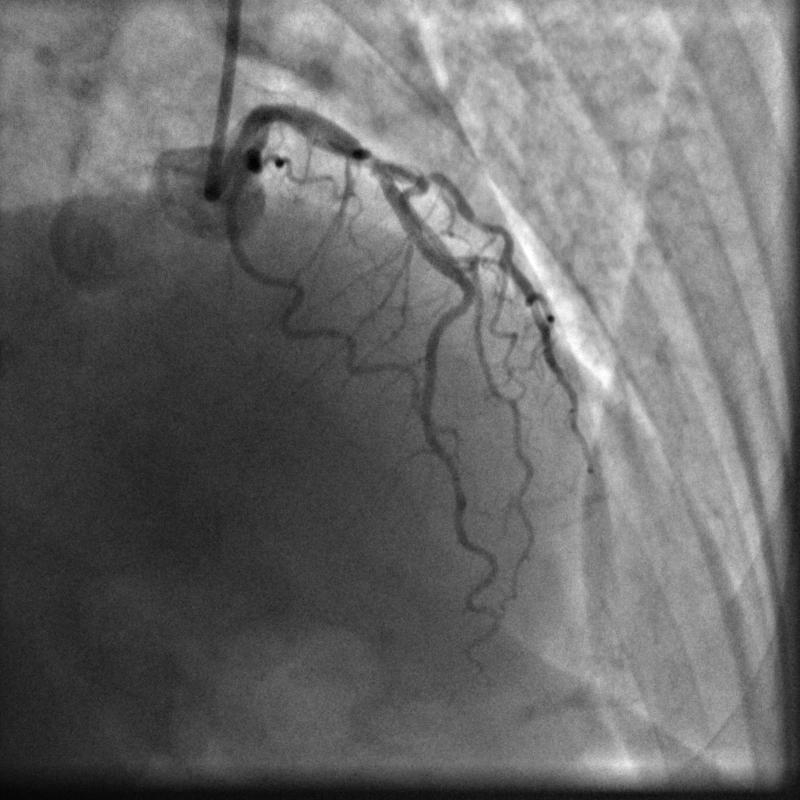Stenosis: (366, 148, 381, 178)
